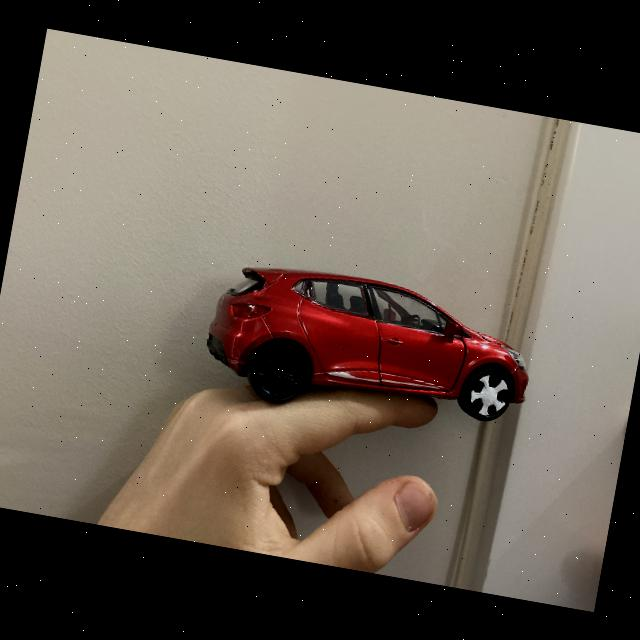Dogru_Jant: (252, 345, 306, 400)
Yanlis_Jant: (466, 372, 509, 420)
